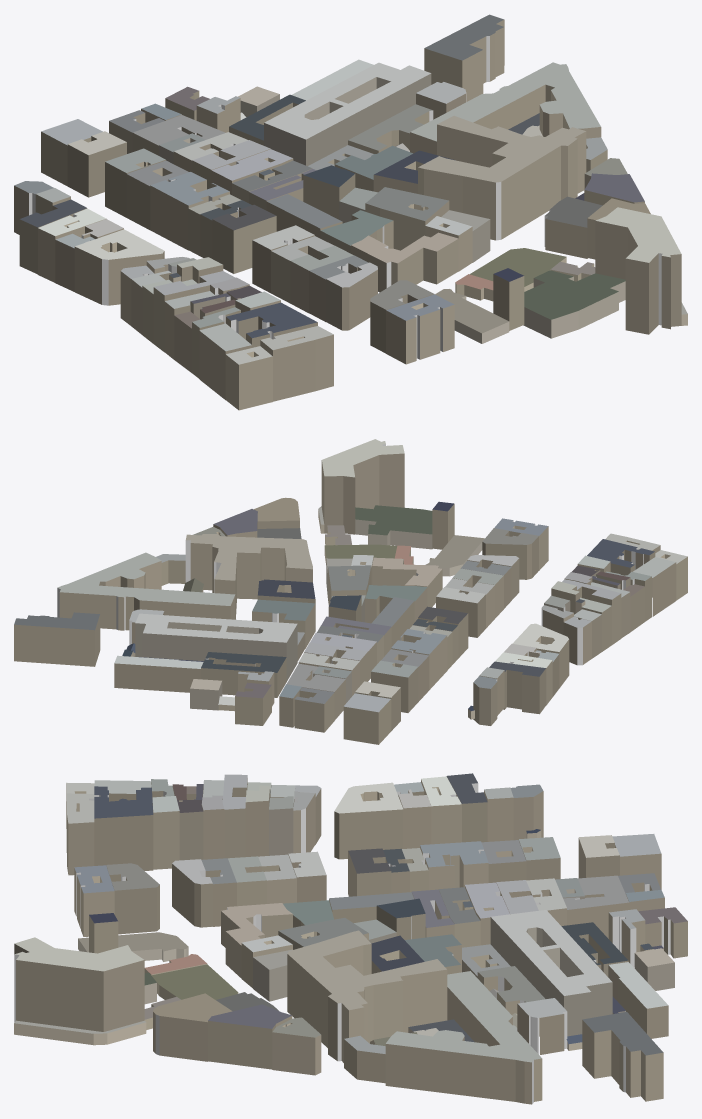
3 renders of one model, top to bottom at view 1: azimuth 30°, elevation 25°; view 2: azimuth 150°, elevation 25°; view 3: azimuth 270°, elevation 25°, orthographic. The views are drawn at different scales.
Parts seen in each view (by area): view 1: tuile; view 2: tuile; view 3: tuile.
Part boxes in pixels (x1=…): tuile: x1=14, y1=14, x2=687, y2=410; tuile: x1=14, y1=439, x2=687, y2=744; tuile: x1=14, y1=773, x2=687, y2=1104.
Bounding box in the file's own units: 282 × 35.21 × 285.
